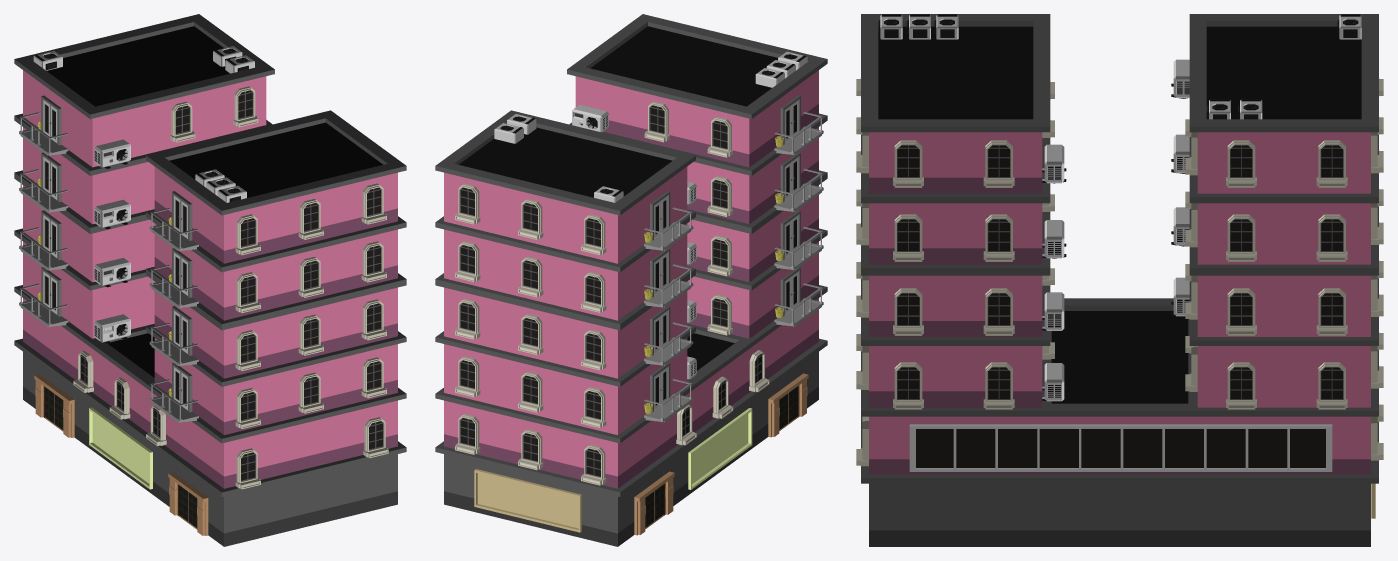
File: House 6.fbx
3 views of the same model, side by side, from view 1: azimuth 30°, elevation 25°; view 2: azimuth 150°, elevation 25°; view 3: azimuth 270°, elevation 25° (orthographic). The views are drawn at different scales.
Parts seen in each view (by area): view 1: House 6; view 2: House 6; view 3: House 6.
Boxes of the visible parts, left/top/right/bottom form: House 6: left=14, top=14, right=406, bottom=546; House 6: left=435, top=14, right=827, bottom=546; House 6: left=856, top=14, right=1383, bottom=546.
Bounding box in the file's own units: 20.84 × 18.84 × 11.81.
